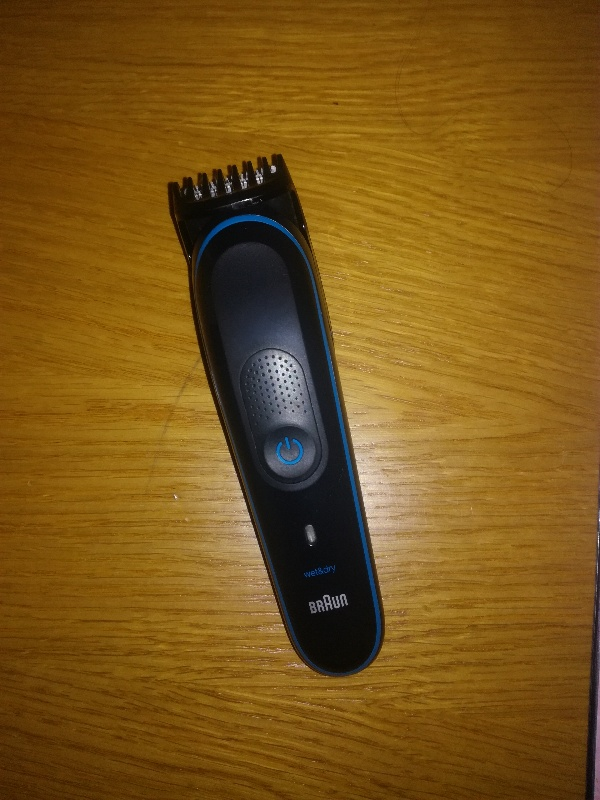beard trimmer: (166, 155, 387, 678)
